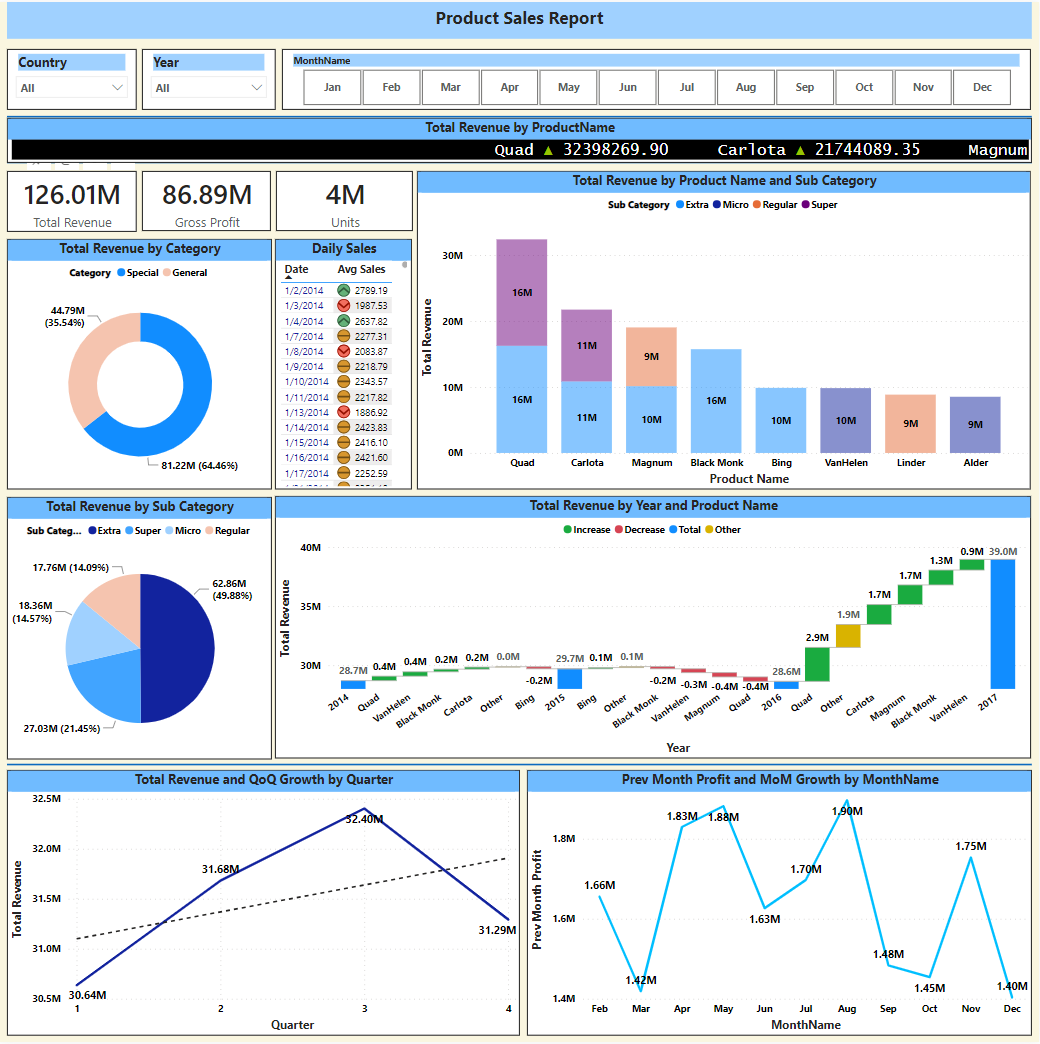

What the dashboard file says about the page in this screenshot:
{"tool":"powerbi","page":{"name":"Sales Report","canvas":[1300,1300],"ordinal":0},"visuals":[{"type":"textbox","box":[9.6,0,1281.1,45.8],"z":0},{"type":"slicer","fields":{"Values":["Geography.Country"]},"box":[9.6,58.5,161.7,75.5],"z":1000},{"type":"slicer","fields":{"Values":["DateMaster.Year"]},"box":[178.8,58.5,167,75.5],"z":2000},{"type":"slicer","fields":{"Values":["DateMaster.MonthName"]},"box":[354.3,58.5,936.3,75.5],"z":3000},{"type":"shape","box":[9.6,134.1,1281.1,19.2],"z":4000},{"type":"shape","box":[9.6,114.9,1281.1,171.3],"z":5000},{"type":"card","fields":{"Values":["Sales.TotalRevenue"]},"box":[9.6,210.7,161.7,75.5],"z":6000},{"type":"card","fields":{"Values":["Sales.GrossProfit"]},"box":[178.9,211.3,161.3,75.1],"z":7000},{"type":"card","fields":{"Values":["Sales.Units"]},"box":[345.7,211.3,171.5,75.1],"z":8000},{"type":"pieChart","fields":{"Category":["SubCategory.SubCategory Name"],"Y":["Sales.TotalRevenue"]},"box":[9.6,618.2,330.9,327.7],"z":9000},{"type":"donutChart","fields":{"Category":["Categories.Category"],"Y":["Sales.TotalRevenue"]},"box":[9.6,295.8,330.9,312.8],"z":10000},{"type":"ScrollingTextVisual1448795304508","title":"Total Revenue by ProductName","fields":{"Category":["Product.ProductName"],"Measure Deviation":["Sales.TotalRevenue"]},"box":[9.6,144.7,1281.1,56.4],"z":11000},{"type":"waterfallChart","fields":{"Category":["DateMaster.Year"],"Breakdown":["Product.ProductName"],"Y":["Sales.TotalRevenue"]},"box":[345.4,618,945,328.1],"z":12000},{"type":"columnChart","fields":{"Category":["Product.ProductName"],"Y":["Sales.TotalRevenue"],"Series":["SubCategory.SubCategory Name"]},"box":[523.1,211,767.3,398.5],"z":13000},{"type":"shape","box":[9.6,945.9,1281.1,13.8],"z":14000},{"type":"lineChart","fields":{"Category":["DateMaster.Quarter"],"Y":["Sales.TotalRevenue"]},"box":[9.6,959.7,640.5,332],"z":15000},{"type":"lineChart","fields":{"Category":["DateMaster.MonthName"],"Y":["DateMaster.Prev Month Profit"]},"box":[659.7,959.7,631,332],"z":16000},{"type":"tableEx","title":"Daily Sales","fields":{"Values":["DateMaster.Date","Sales.TotalRevenue"]},"box":[345.4,296.1,171,313.3],"z":17000}]}

Visuals, with their boxes in screenshot pixels (x1, y1, x2, y2), scaled from the page's 1300x1300 canvas onto the 1040x1044 screenshot:
textbox: 8/0/1033/37
slicer - Geography.Country: 8/47/137/108
slicer - DateMaster.Year: 143/47/277/108
slicer - DateMaster.MonthName: 283/47/1032/108
shape: 8/108/1033/123
shape: 8/92/1033/230
card - Sales.TotalRevenue: 8/169/137/230
card - Sales.GrossProfit: 143/170/272/230
card - Sales.Units: 277/170/414/230
pieChart - SubCategory.SubCategory Name x Sales.TotalRevenue: 8/496/272/760
donutChart - Categories.Category x Sales.TotalRevenue: 8/238/272/489
"Total Revenue by ProductName" ScrollingTextVisual1448795304508: 8/116/1033/161
waterfallChart - DateMaster.Year x Product.ProductName: 276/496/1032/760
columnChart - Product.ProductName x Sales.TotalRevenue: 418/169/1032/489
shape: 8/760/1033/771
lineChart - DateMaster.Quarter x Sales.TotalRevenue: 8/771/520/1037
lineChart - DateMaster.MonthName x DateMaster.Prev Month Profit: 528/771/1033/1037
"Daily Sales" tableEx: 276/238/413/489
